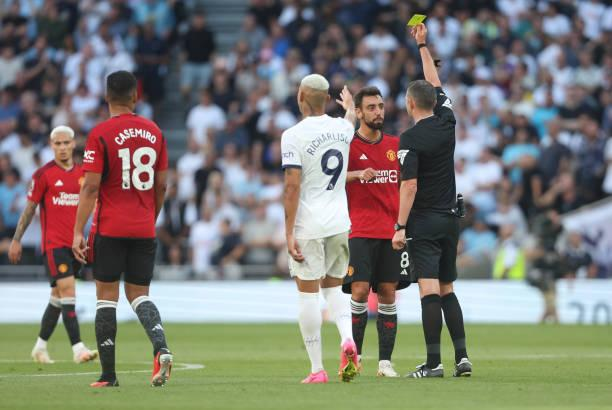Player: (72, 71, 173, 387), (281, 74, 359, 383), (8, 126, 97, 363), (343, 86, 402, 377)
referee: (392, 23, 472, 377)
